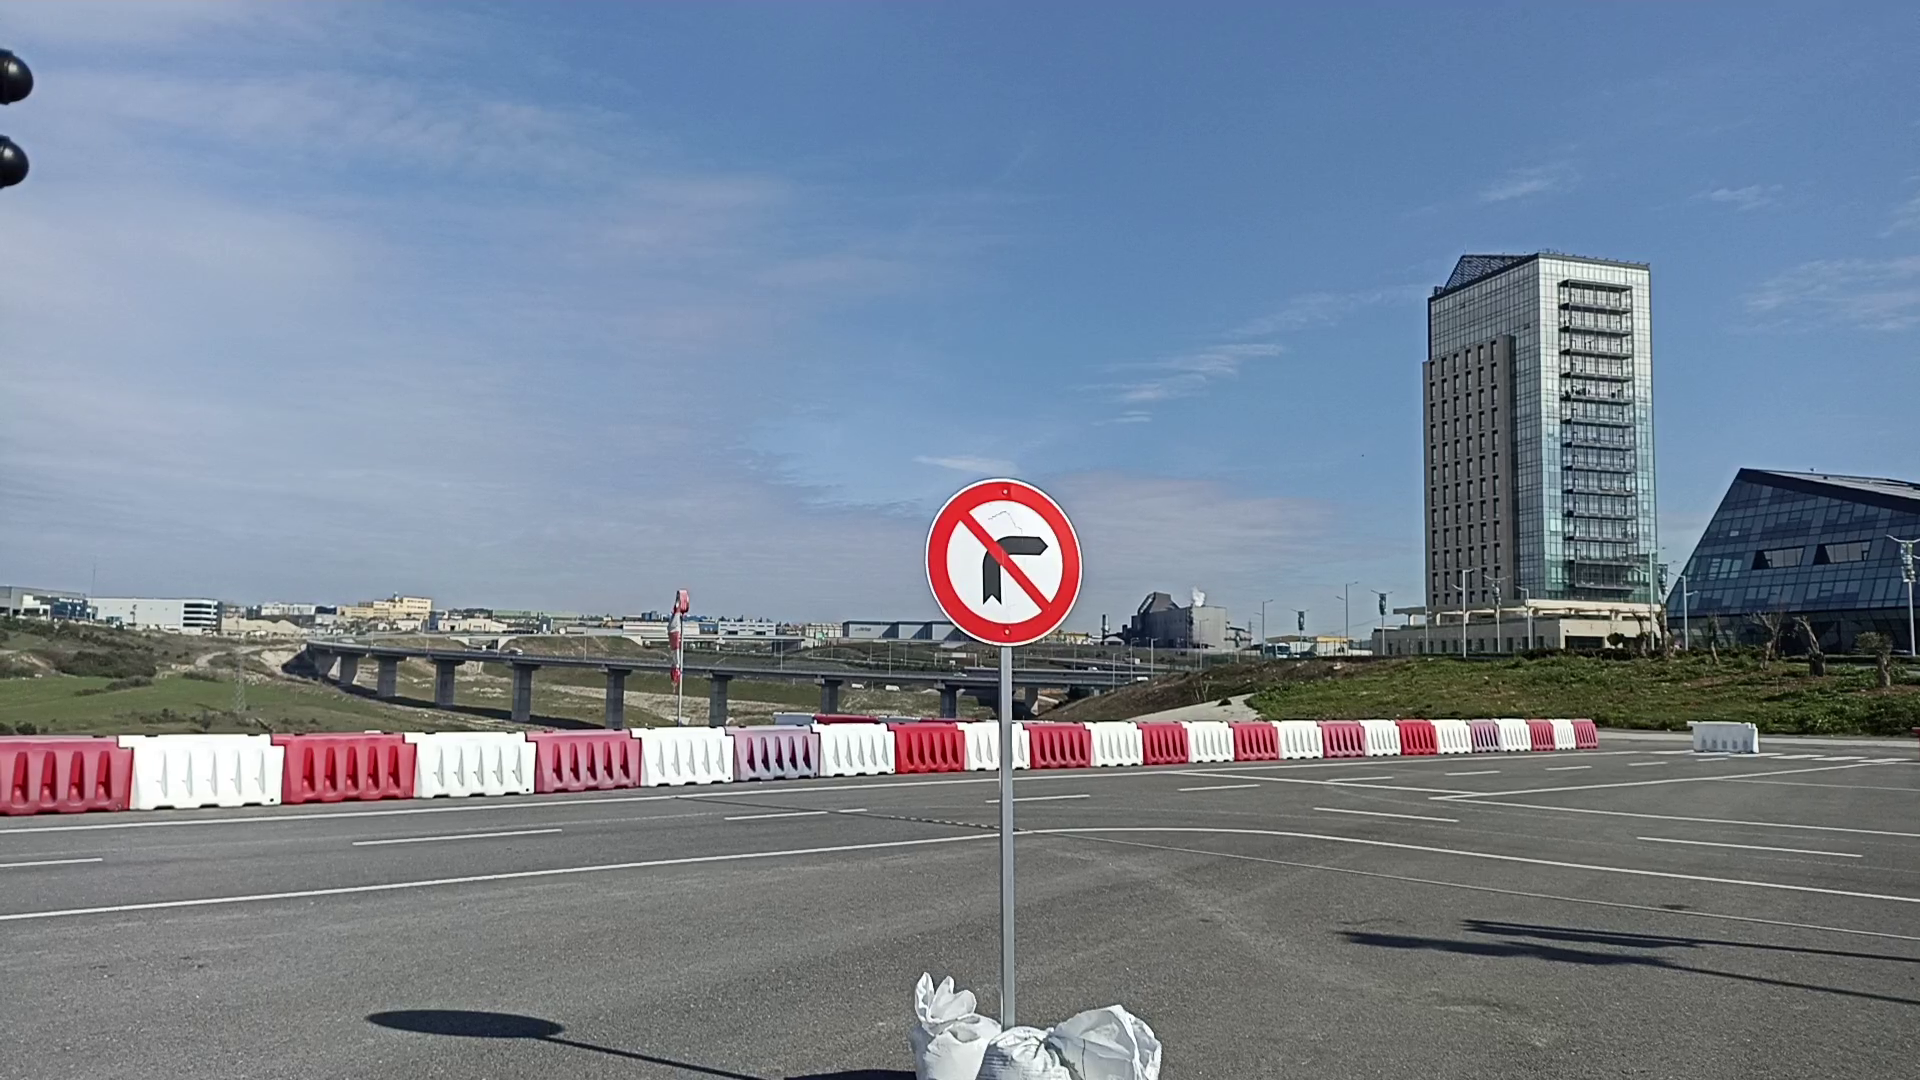noleftturn: (922, 473, 1087, 649)
